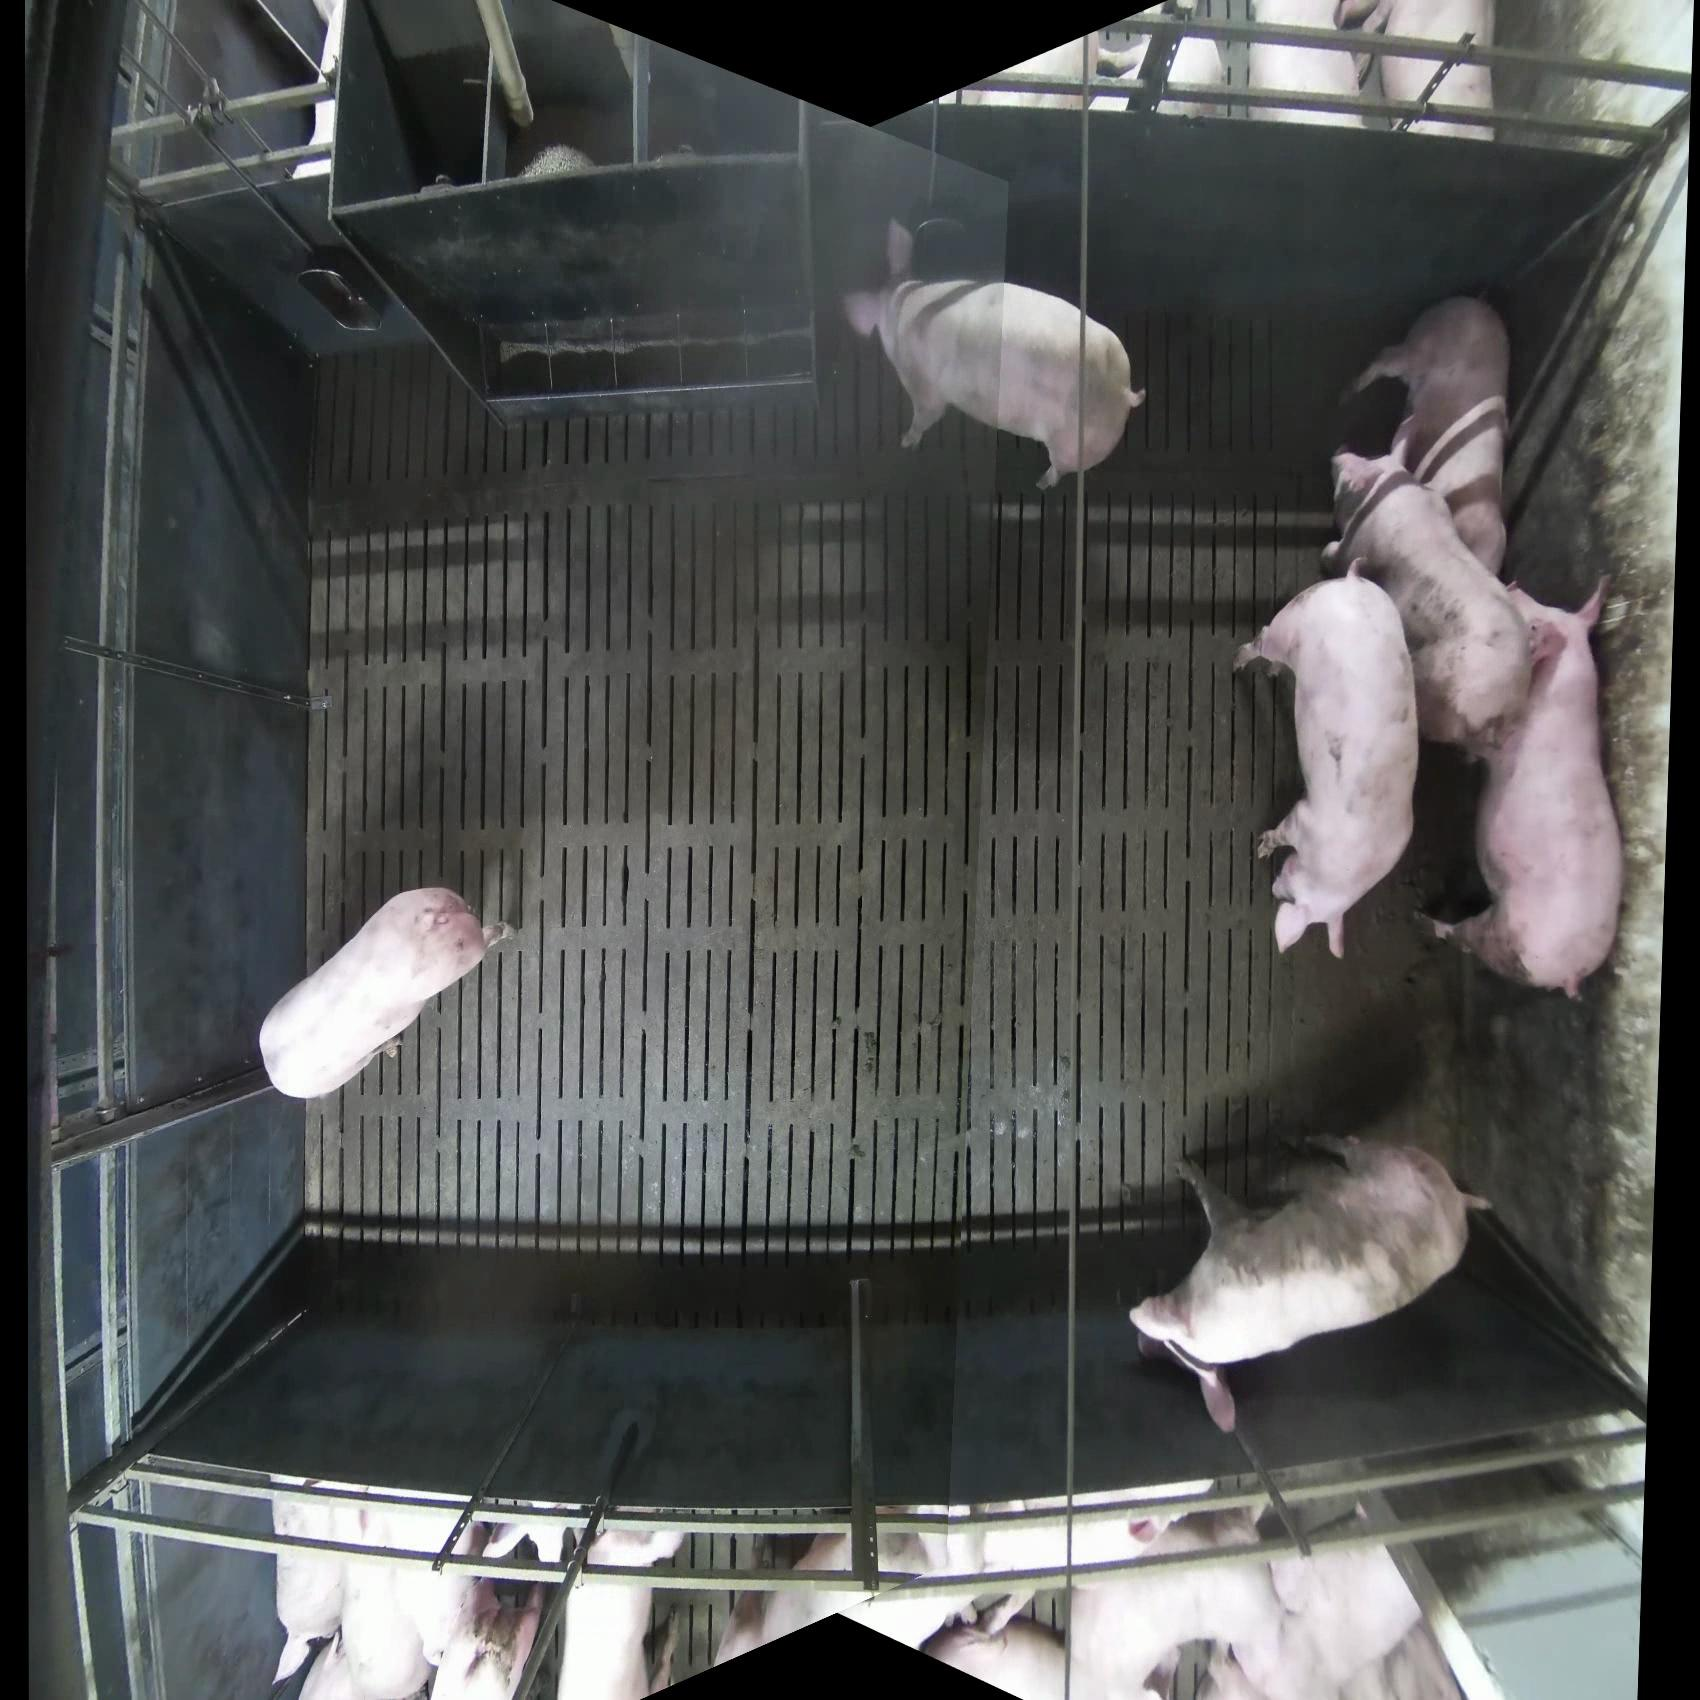pig: (1129, 1129, 1495, 1434), (1412, 571, 1627, 1003), (842, 216, 1147, 492), (1231, 568, 1421, 962), (1319, 448, 1537, 763), (269, 1487, 548, 1700), (257, 884, 514, 1101), (1203, 1491, 1463, 1700), (1331, 294, 1515, 581), (1063, 1501, 1289, 1700), (715, 1518, 947, 1670), (554, 1521, 690, 1698), (1336, 2, 1498, 142), (427, 1523, 550, 1698), (269, 1488, 369, 1698), (1247, 2, 1382, 129), (1094, 3, 1228, 121), (918, 1597, 1070, 1700)
